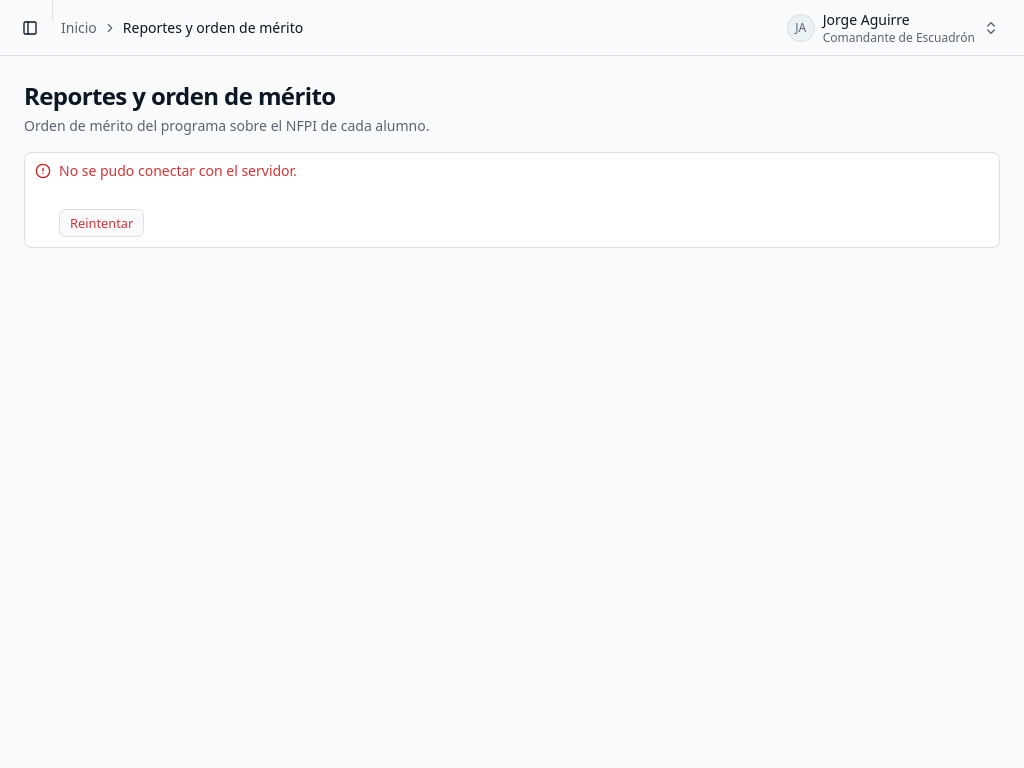
Test: Reportes: el alumno sin NFPI y los estados de la pantalla › CA-REP-08 un fallo en la primera carga muestra el aviso con Reintentar
Expected: the text "No se pudo conectar con el servidor." is shown, x1=59 y1=161 x2=297 y2=180
Click the button "Reintentar" at (102, 223), box x1=59 y1=209 x2=144 y2=237
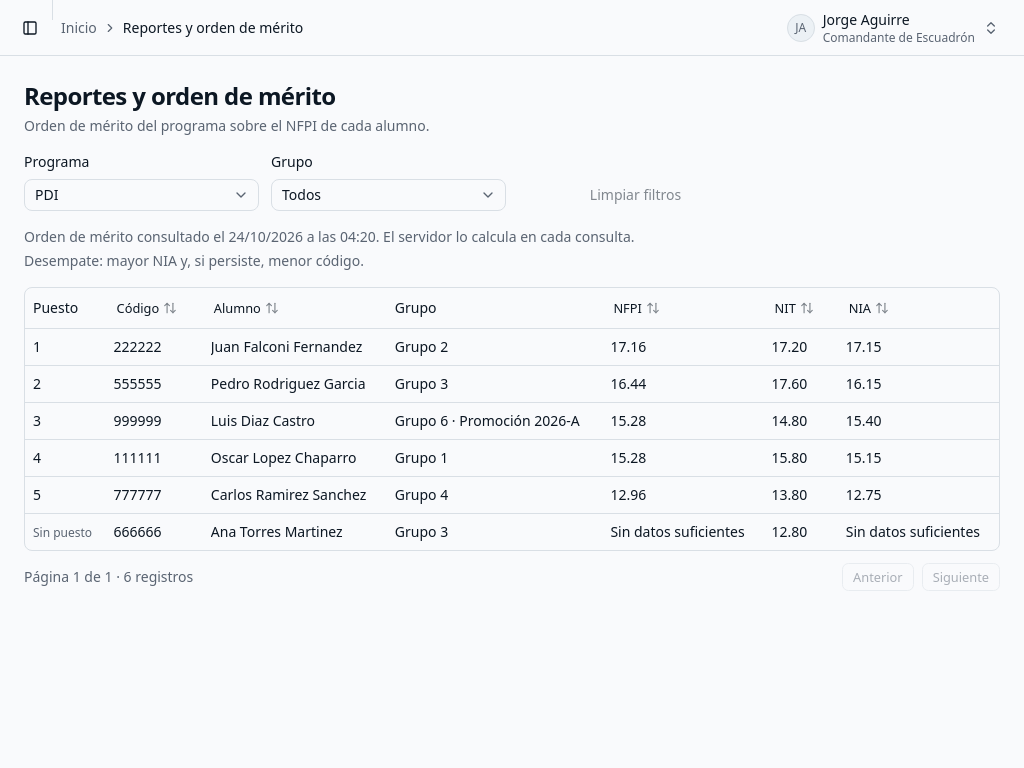
Result: the table named "Orden de mérito" is shown at x1=25 y1=288 x2=999 y2=550
